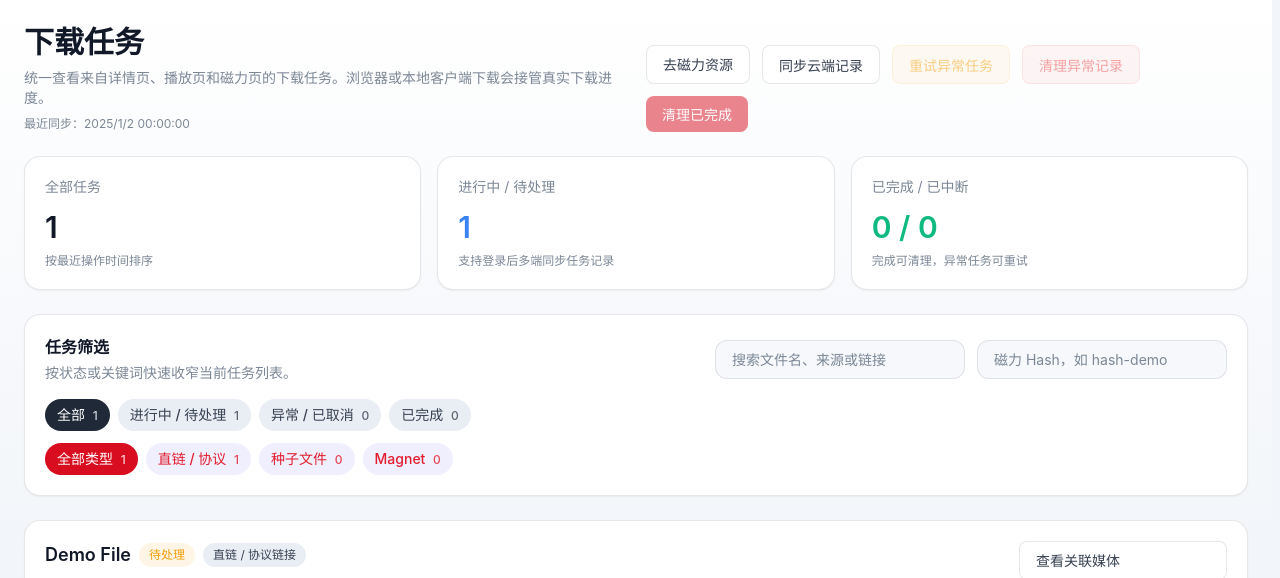
Test: DownloadsView › hydrates remote tasks on mount and refreshes on demand
This screenshot has width=1280, height=578.
Click the button "同步云端记录". click: (821, 64)
box: [762,45,880,84]
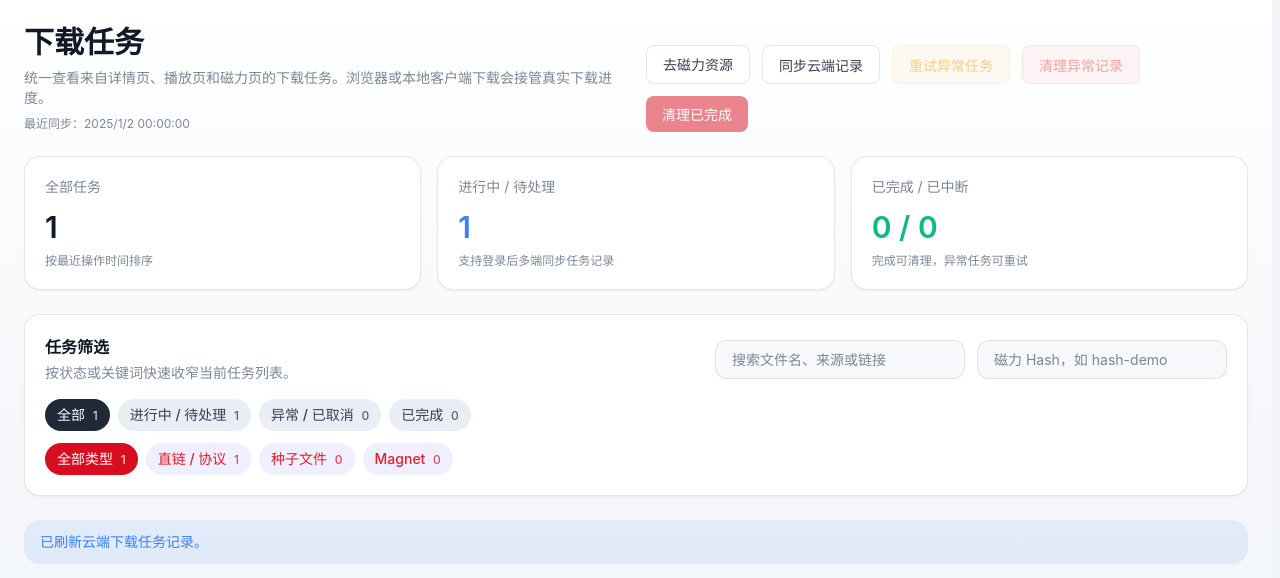
Check: the text "已刷新云端下载任务记录" is shown, box [40,533,208,550]
